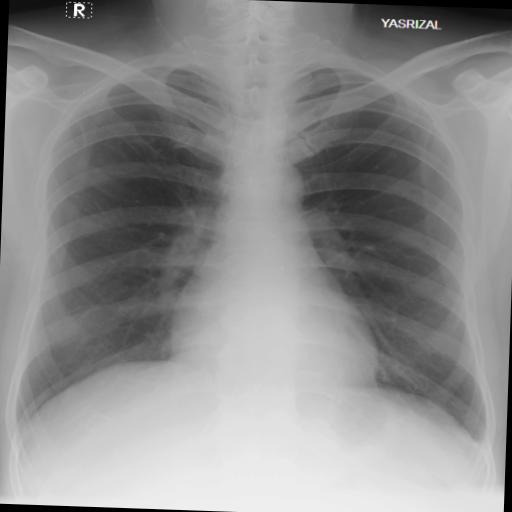normal: (8, 26, 510, 464)
